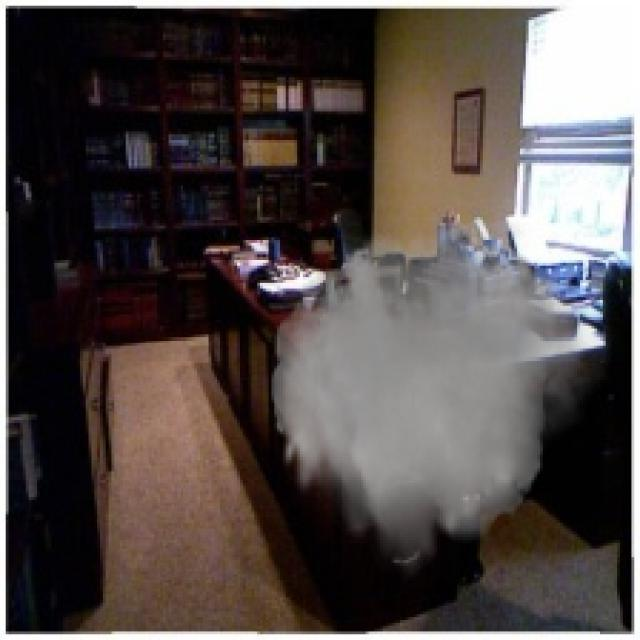Smoke: (263, 203, 612, 586)
